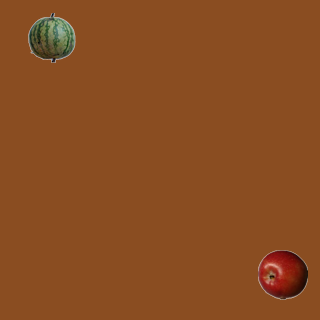Apple Braeburn: (257, 249, 307, 299)
Watermelon: (26, 12, 76, 62)
